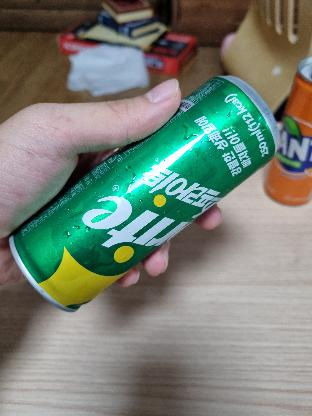Can: (21, 74, 281, 304)
